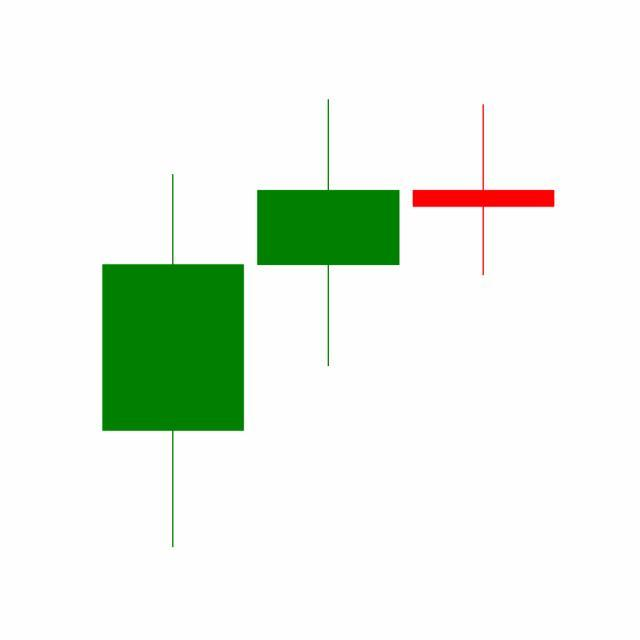Spinning Top: (250, 96, 407, 370)
